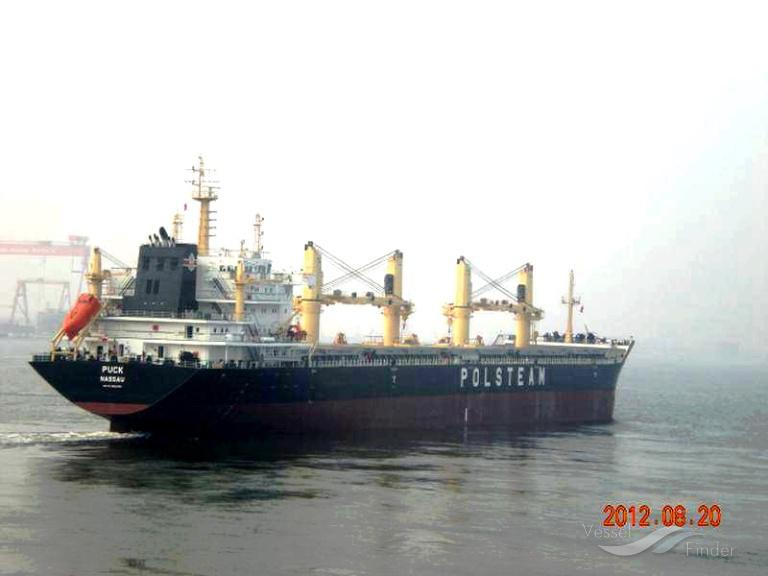OCR: (454, 360, 553, 393), (93, 362, 134, 395)
